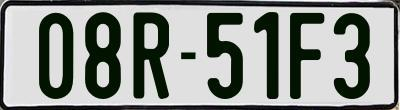0: (38, 12, 76, 100)
1: (252, 12, 278, 102)
3: (331, 10, 367, 96)
5: (205, 12, 241, 99)
8: (82, 11, 118, 100)
F: (287, 10, 322, 96)
R: (131, 9, 167, 100)
